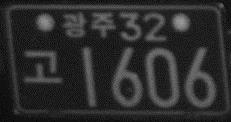0: (144, 46, 180, 109)
1: (78, 44, 99, 109)
2: (143, 11, 167, 43)
3: (118, 11, 140, 43)
6: (182, 44, 218, 109), (110, 45, 143, 109)
고: (22, 48, 63, 86)
광주_O: (62, 11, 116, 39)
